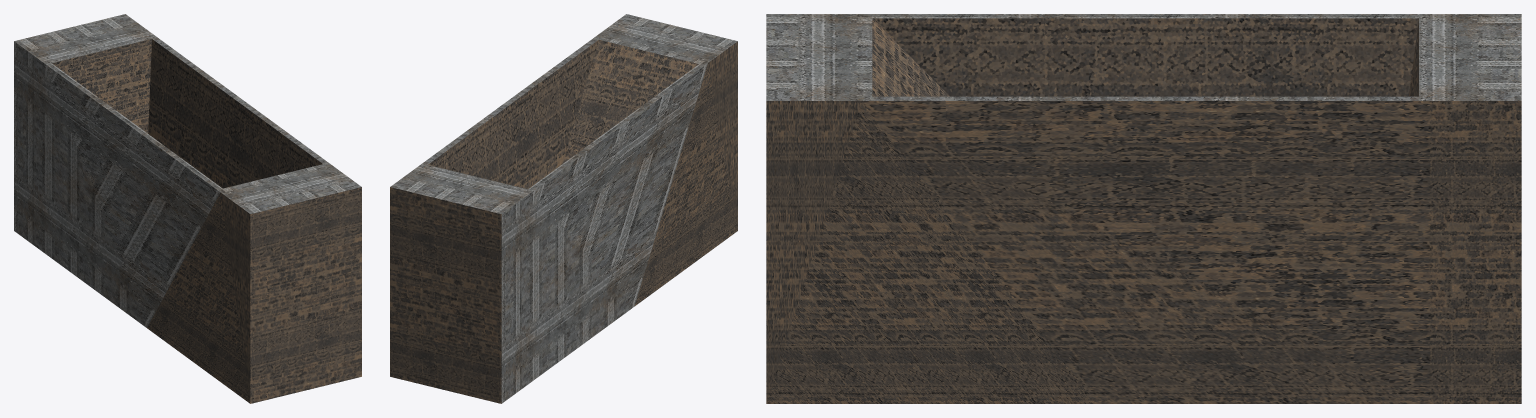
File: SM_FloorPitfall2.fbx
The picture shows the model from 3 angles, left to right: view 1: azimuth 30°, elevation 25°; view 2: azimuth 150°, elevation 25°; view 3: azimuth 270°, elevation 25°; orthographic projection. The views are drawn at different scales.
Visible parts, largest first — view 1: SM_FloorPitfall; view 2: SM_FloorPitfall; view 3: SM_FloorPitfall.
Part boxes in pixels (x1,y1,x2,y2): SM_FloorPitfall: [14, 14, 361, 403]; SM_FloorPitfall: [390, 14, 737, 403]; SM_FloorPitfall: [766, 14, 1521, 403].
Size of the model in its own units: 400 by 651 by 1469.
